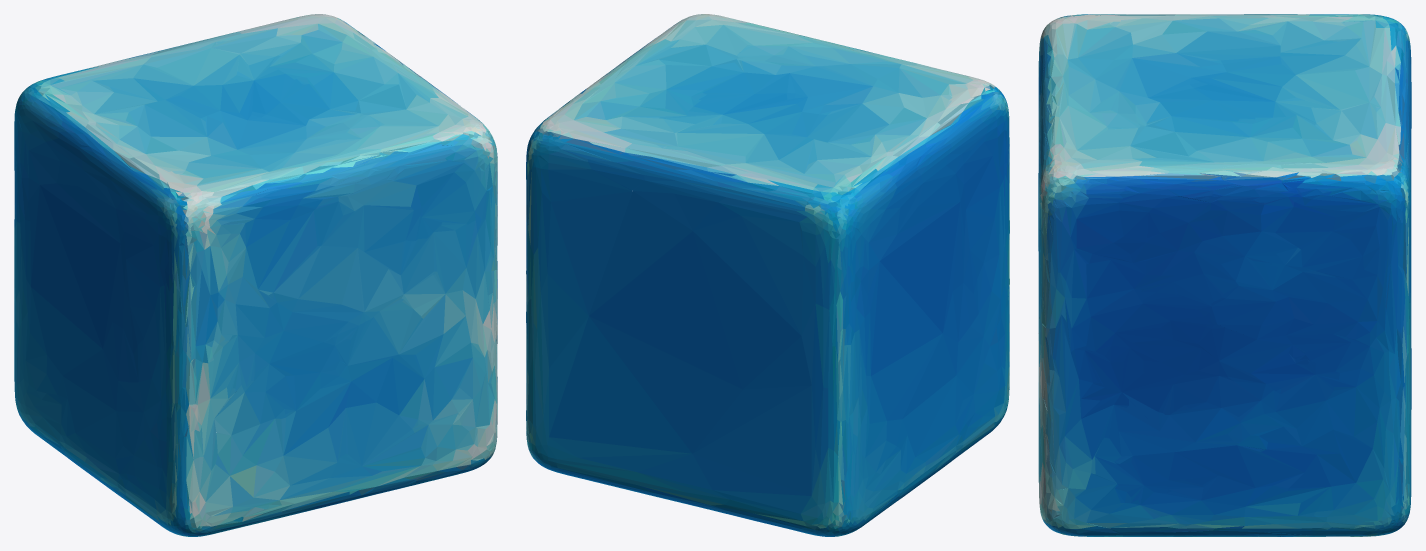
The model's file is joe.glb.
3 views of the same model, side by side, from view 1: azimuth 30°, elevation 25°; view 2: azimuth 150°, elevation 25°; view 3: azimuth 270°, elevation 25° (orthographic). The views are drawn at different scales.
Parts seen in each view (by area): view 1: tripo_node_277c7cd2-1538-4b2f-910a-1d6a0758907f; view 2: tripo_node_277c7cd2-1538-4b2f-910a-1d6a0758907f; view 3: tripo_node_277c7cd2-1538-4b2f-910a-1d6a0758907f.
Boxes of the visible parts, x1,y1,x2,y2 form: tripo_node_277c7cd2-1538-4b2f-910a-1d6a0758907f: (14, 14, 497, 536); tripo_node_277c7cd2-1538-4b2f-910a-1d6a0758907f: (526, 14, 1009, 536); tripo_node_277c7cd2-1538-4b2f-910a-1d6a0758907f: (1038, 14, 1411, 536).
Size of the model in its own units: 0.9929 by 1 by 0.9138.
